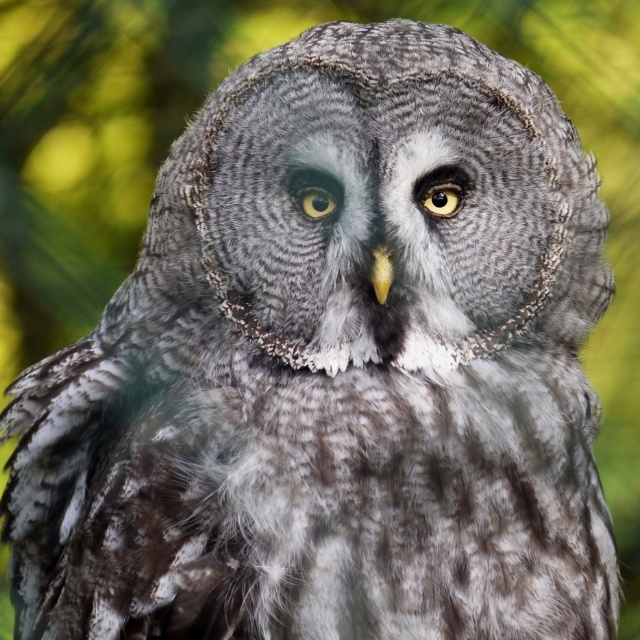Owl: (0, 18, 634, 640)
